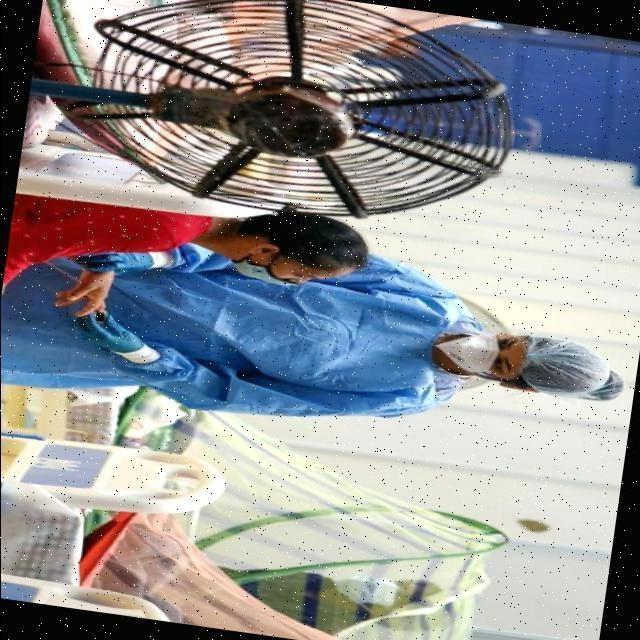apron: (84, 313, 140, 353), (100, 246, 158, 280)
gloves: (529, 341, 602, 394)
mask: (440, 326, 494, 374), (228, 247, 280, 287), (342, 574, 389, 616)
no_gloves: (283, 214, 353, 258), (50, 274, 113, 316)
